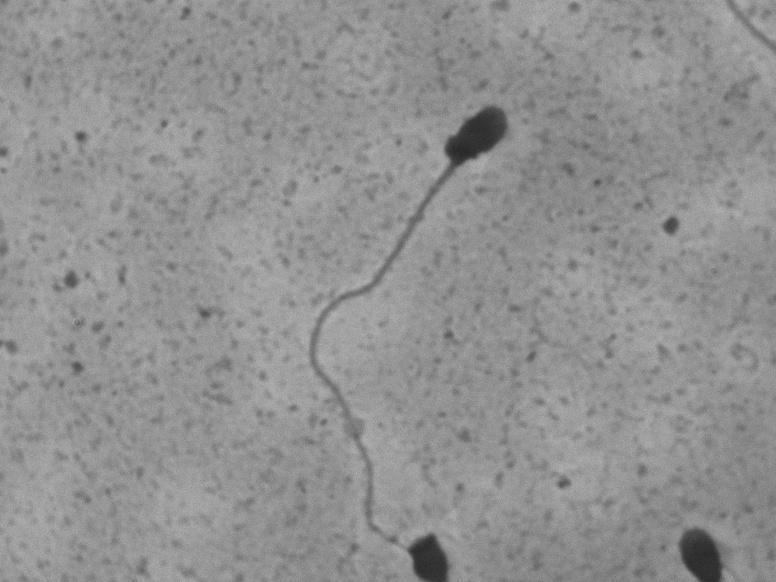Abnormal: (288, 84, 528, 560)
